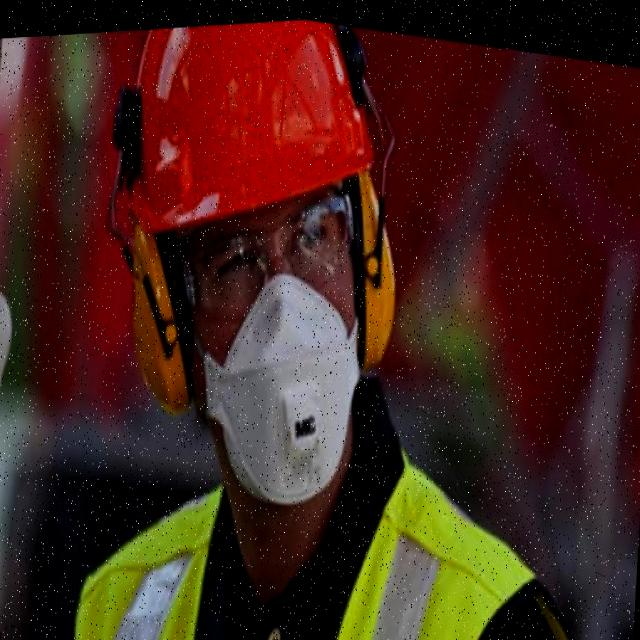Earmuffs: (340, 171, 396, 370), (132, 220, 190, 412)
Hardhat: (131, 21, 374, 233)
Mask: (204, 275, 359, 504)
